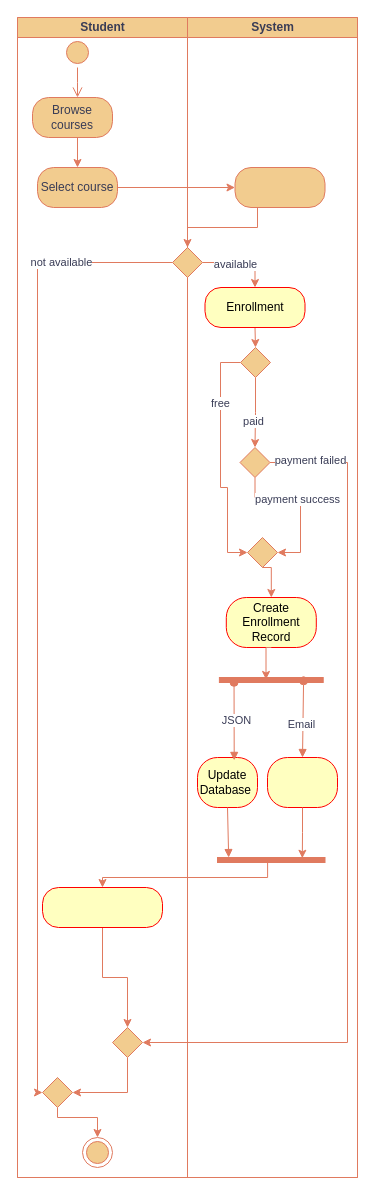
Some shapes in this 375 by 1195 pixel diagram are drawn without their labels. Here are the shapes that lost their labels. From the top down, the centre of each, then its label:
point 279,187: Check Course Availability
point 302,782: Send Confirmation Email
point 102,907: Show Enrollment Success
